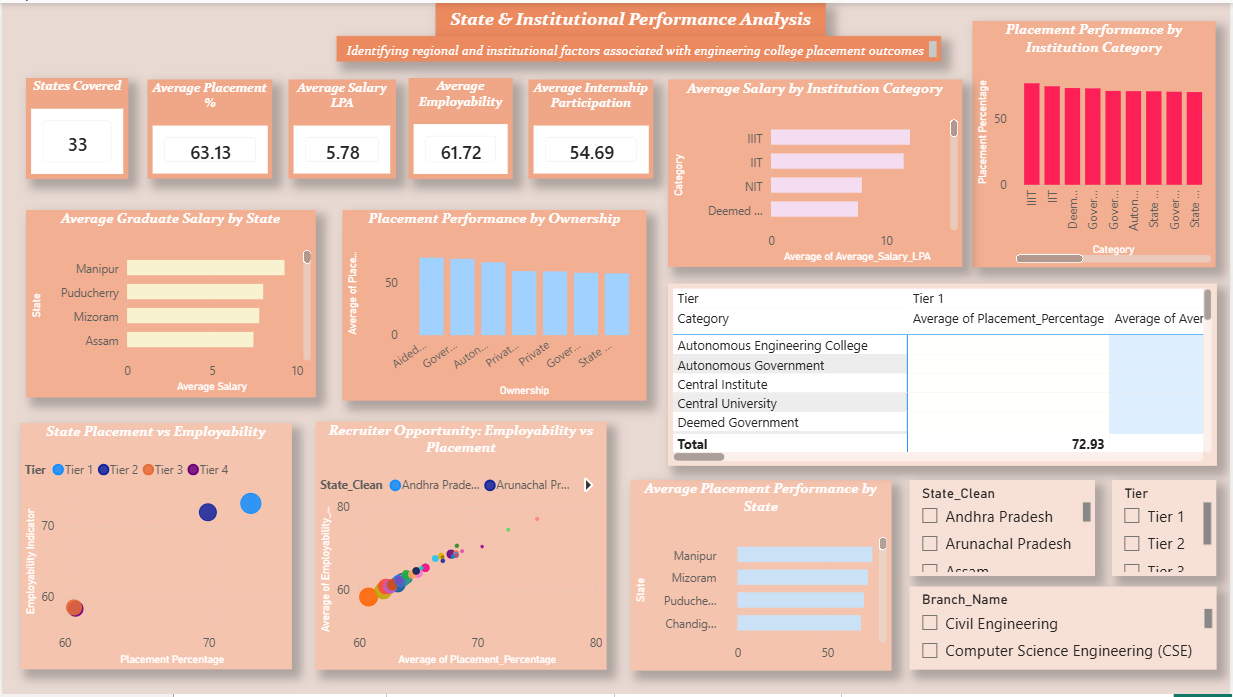

Layout of this report page (visuals, bound fields, positions):
{"tool":"powerbi","page":{"name":"State & Institutional Performance","canvas":[1280,720],"ordinal":3},"visuals":[{"type":"textbox","box":[451.7,0,406.7,35],"z":0},{"type":"textbox","box":[348.3,35,630,26.7],"z":1000},{"type":"cardVisual","title":"States Covered","fields":{"Data":["Count(Sheet1.State_Clean)"]},"box":[25,78.3,106.7,105],"z":2000},{"type":"cardVisual","title":"Average Placement %","fields":{"Data":["Avg(Sheet1.Placement_Percentage)"]},"box":[151.7,80,130,103.3],"z":3000},{"type":"cardVisual","title":"Average Salary LPA","fields":{"Data":["Avg(Sheet1.Average_Salary_LPA)"]},"box":[298.3,80,111.7,103.3],"z":4000},{"type":"cardVisual","title":"Average Employability","fields":{"Data":["Avg(Sheet1.Employability_Indicator)"]},"box":[423.3,78.3,108.3,105],"z":5000},{"type":"cardVisual","title":"Average Internship Participation","fields":{"Data":["Avg(Sheet1.Internship_Participation_Pct)"]},"box":[548.3,80,130,103.3],"z":6000},{"type":"clusteredBarChart","title":"Average Placement Performance by State","fields":{"Category":["Sheet1.State_Clean"],"Y":["Avg(Sheet1.Placement_Percentage)"]},"box":[655,496.7,271.7,198.3],"z":7000},{"type":"clusteredBarChart","title":"Average Graduate Salary by State","fields":{"Category":["Sheet1.State_Clean"],"Y":["Avg(Sheet1.Average_Salary_LPA)"]},"box":[25,215,301.7,195],"z":8000},{"type":"scatterChart","title":"State Placement vs Employability","fields":{"X":["Avg(Sheet1.Placement_Percentage)"],"Y":["Avg(Sheet1.Employability_Indicator)"],"Series":["Sheet1.Tier"],"Size":["Avg(Sheet1.Average_Salary_LPA)"]},"box":[18.3,438.3,283.3,256.7],"z":9000},{"type":"clusteredColumnChart","title":"Placement Performance by Institution Category","fields":{"Category":["Sheet1.Category"],"Y":["Avg(Sheet1.Placement_Percentage)"]},"box":[1011.7,18.3,253.3,256.7],"z":10000},{"type":"clusteredColumnChart","title":"Placement Performance by Ownership","fields":{"Category":["Sheet1.Ownership"],"Y":["Avg(Sheet1.Placement_Percentage)"]},"box":[355,215,316.7,198.3],"z":11000},{"type":"clusteredBarChart","title":"Average Salary by Institution Category","fields":{"Category":["Sheet1.Category"],"Y":["Avg(Sheet1.Average_Salary_LPA)"]},"box":[693.3,80,306.7,195],"z":12000},{"type":"pivotTable","fields":{"Rows":["Sheet1.Category"],"Columns":["Sheet1.Tier"],"Values":["Avg(Sheet1.Placement_Percentage)","Avg(Sheet1.Average_Salary_LPA)","Avg(Sheet1.Employability_Indicator)"]},"box":[693.3,291.7,571.7,190],"z":13000},{"type":"scatterChart","title":"Recruiter Opportunity: Employability vs Placement","fields":{"X":["Avg(Sheet1.Placement_Percentage)"],"Y":["Avg(Sheet1.Employability_Indicator)"],"Series":["Sheet1.State_Clean"],"Size":["Sum(Sheet1.Average_Salary_LPA)"]},"box":[326.7,436.7,303.3,258.3],"z":14000},{"type":"slicer","fields":{"Values":["Sheet1.State_Clean"]},"box":[945,496.7,193.3,100],"z":15000},{"type":"slicer","fields":{"Values":["Sheet1.Tier"]},"box":[1156.7,496.7,108.3,100],"z":16000},{"type":"slicer","fields":{"Values":["Sheet1.Branch_Name"]},"box":[945,608.3,320,86.7],"z":17000}]}

Visuals, with their boxes in screenshot pixels (x1, y1, x2, y2), scaled from the page's 1280x720 canvas onto the 1233x697 screenshot:
textbox: {"left": 435, "top": 0, "right": 827, "bottom": 34}
textbox: {"left": 336, "top": 34, "right": 942, "bottom": 60}
"States Covered" cardVisual: {"left": 24, "top": 76, "right": 127, "bottom": 177}
"Average Placement %" cardVisual: {"left": 146, "top": 77, "right": 271, "bottom": 177}
"Average Salary LPA" cardVisual: {"left": 287, "top": 77, "right": 395, "bottom": 177}
"Average Employability" cardVisual: {"left": 408, "top": 76, "right": 512, "bottom": 177}
"Average Internship Participation" cardVisual: {"left": 528, "top": 77, "right": 653, "bottom": 177}
"Average Placement Performance by State" clusteredBarChart: {"left": 631, "top": 481, "right": 893, "bottom": 673}
"Average Graduate Salary by State" clusteredBarChart: {"left": 24, "top": 208, "right": 315, "bottom": 397}
"State Placement vs Employability" scatterChart: {"left": 18, "top": 424, "right": 291, "bottom": 673}
"Placement Performance by Institution Category" clusteredColumnChart: {"left": 975, "top": 18, "right": 1219, "bottom": 266}
"Placement Performance by Ownership" clusteredColumnChart: {"left": 342, "top": 208, "right": 647, "bottom": 400}
"Average Salary by Institution Category" clusteredBarChart: {"left": 668, "top": 77, "right": 963, "bottom": 266}
pivotTable - Sheet1.Category x Sheet1.Tier: {"left": 668, "top": 282, "right": 1219, "bottom": 466}
"Recruiter Opportunity: Employability vs Placement" scatterChart: {"left": 315, "top": 423, "right": 607, "bottom": 673}
slicer - Sheet1.State_Clean: {"left": 910, "top": 481, "right": 1097, "bottom": 578}
slicer - Sheet1.Tier: {"left": 1114, "top": 481, "right": 1219, "bottom": 578}
slicer - Sheet1.Branch_Name: {"left": 910, "top": 589, "right": 1219, "bottom": 673}
